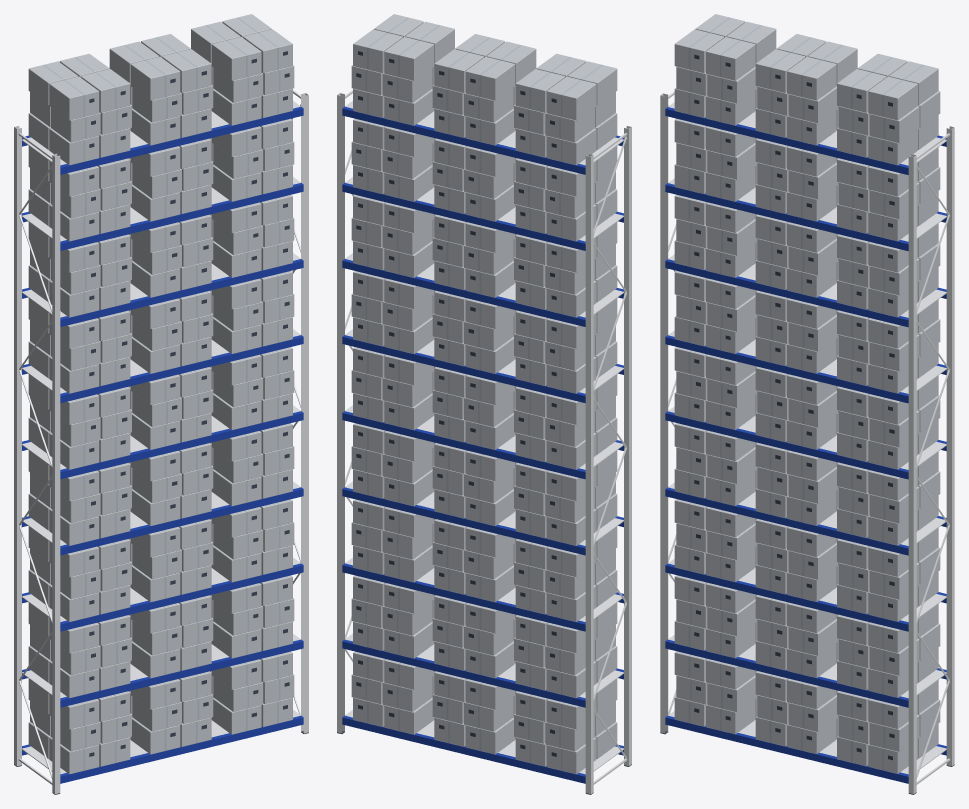
File: SM_MPR_CADRack_F9_W144_Standard.fbx
3 views of the same model, side by side, from view 1: azimuth 30°, elevation 25°; view 2: azimuth 150°, elevation 25°; view 3: azimuth 330°, elevation 25° (orthographic).
Parts seen in each view (by area): view 1: SM_MPR_CADRack_F9_W144_Standard; view 2: SM_MPR_CADRack_F9_W144_Standard; view 3: SM_MPR_CADRack_F9_W144_Standard.
Boxes of the visible parts, x1,y1,x2,y2 form: SM_MPR_CADRack_F9_W144_Standard: (14, 14, 308, 794); SM_MPR_CADRack_F9_W144_Standard: (337, 14, 631, 794); SM_MPR_CADRack_F9_W144_Standard: (660, 14, 954, 794).
Size of the model in its own units: 381 by 107 by 994.
